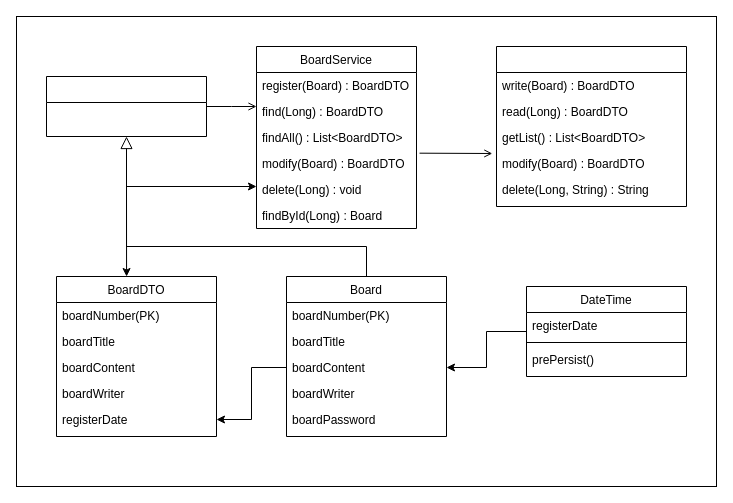
Some shapes in this 733 by 503 pixel diagram are drawn without their labels. The shapes that lost their labels are listed below. From the top down, each one's box as (x1, y1, x2, y2) in pixels, then its label:
(46, 76, 206, 136): BoardRepository
(496, 46, 686, 206): BoardController
